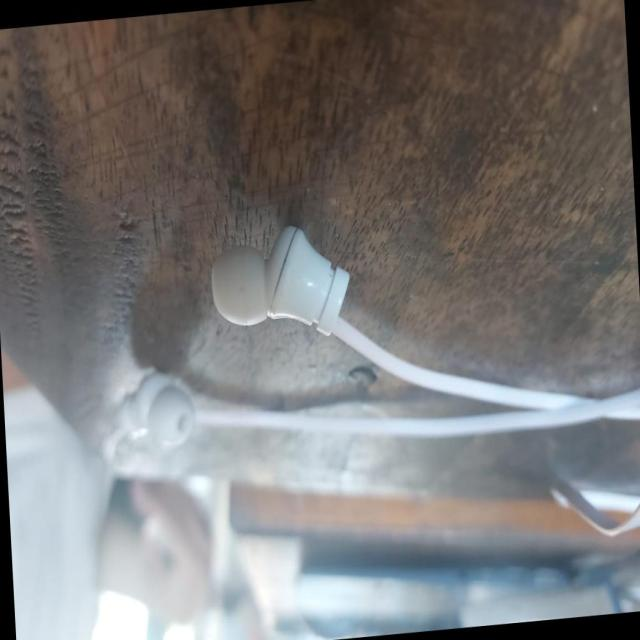earphone: (65, 170, 601, 557)
